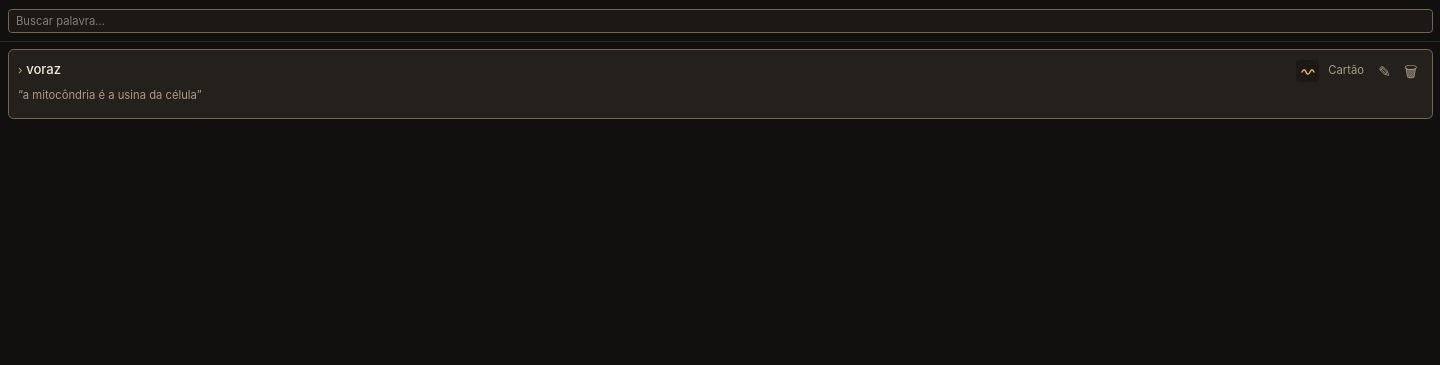
Test case: o card — clicar abre o significado inteiro, os sinônimos e os antônimos › erro ao salvar aparece por cima da lista, sem escondê-la
This screenshot has width=1440, height=365.
Click the button named "Editar voraz": (1385,71) top-left (1373, 60), bottom-right (1396, 82)
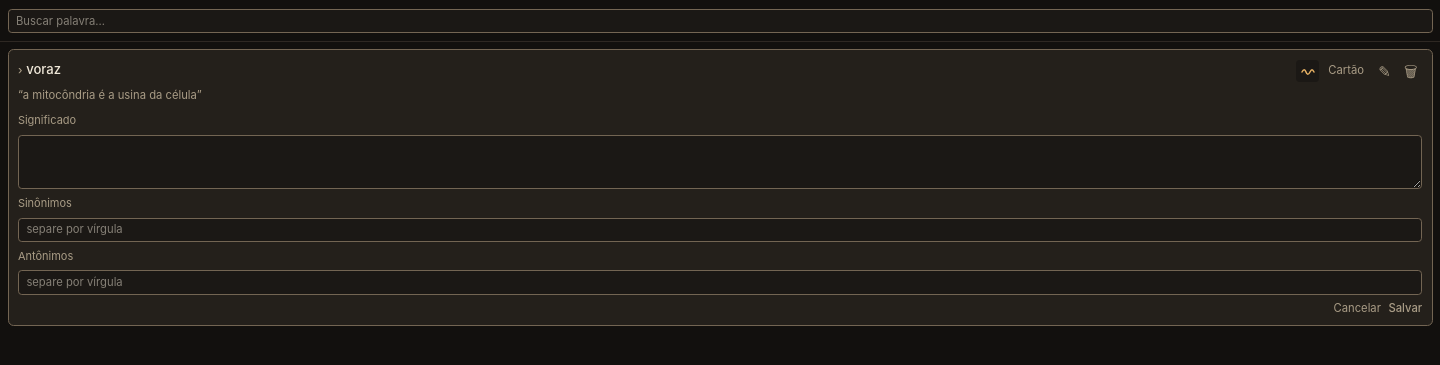
Click the button "Salvar": (1405,308) top-left (1388, 300), bottom-right (1422, 316)
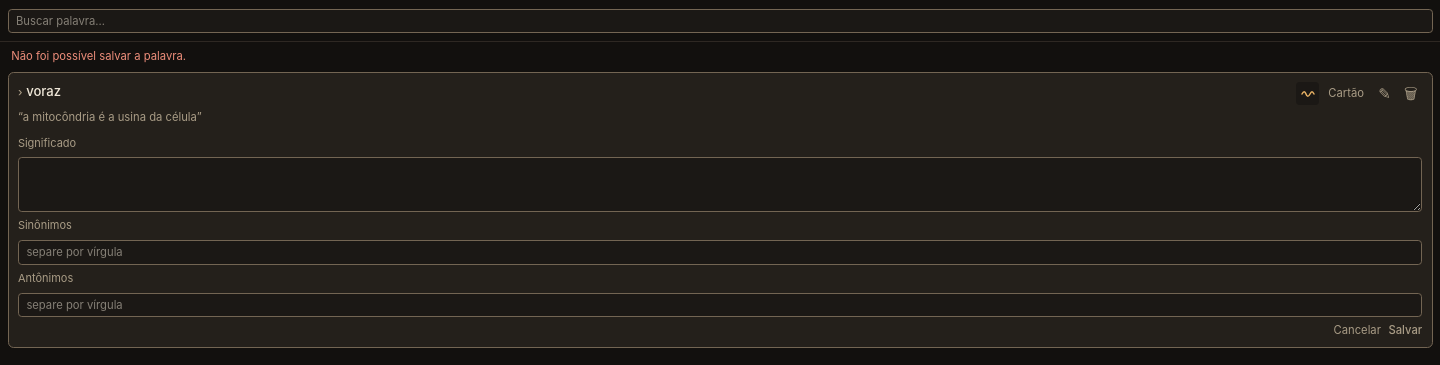
Expected: the button "› voraz" is shown, top-left (18, 82), bottom-right (1289, 101)
Expected: the message reads "Não foi possível salvar a palavra.", top-left (11, 49), bottom-right (186, 63)
